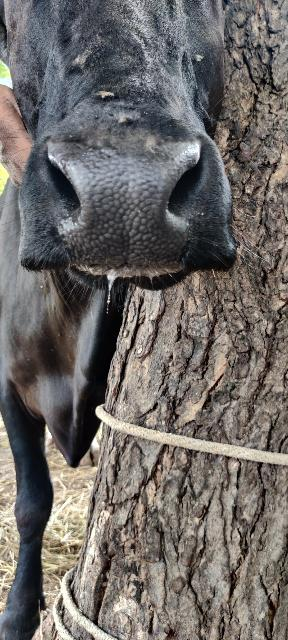Muzzle: (53, 146, 184, 264)
